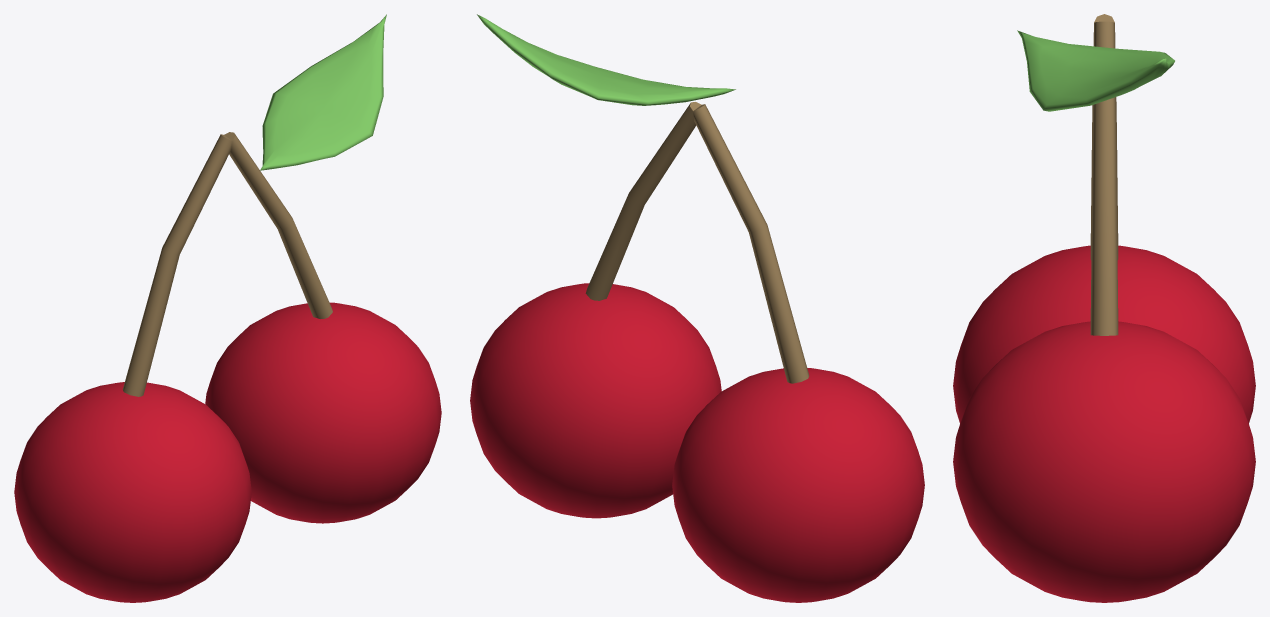
File: cherries.glb
3 views of the same model, side by side, from view 1: azimuth 30°, elevation 25°; view 2: azimuth 150°, elevation 25°; view 3: azimuth 270°, elevation 25° (orthographic). The views are drawn at different scales.
Visible parts, largest first — view 1: cherries; view 2: cherries; view 3: cherries.
Part boxes in pixels (<box>): cherries: <box>14,14,441,602</box>; cherries: <box>470,14,924,602</box>; cherries: <box>953,14,1255,602</box>.
Size of the model in its own units: 0.5 by 0.5937 by 0.26.
